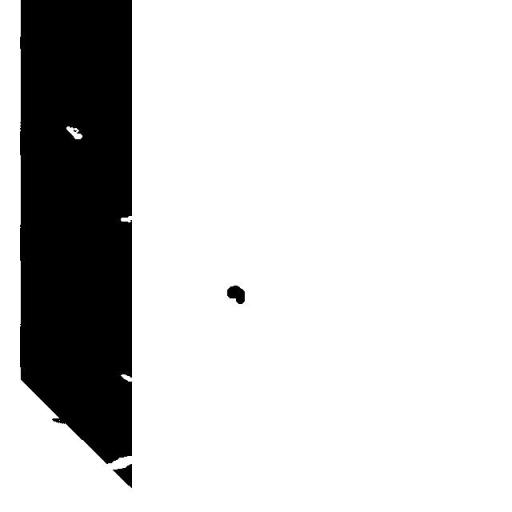copper: (219, 278, 252, 311)
mousebite: (113, 366, 141, 389), (113, 208, 141, 230)
open: (94, 448, 144, 478)
pin-hole: (58, 118, 90, 146)
spur: (44, 409, 73, 431)
